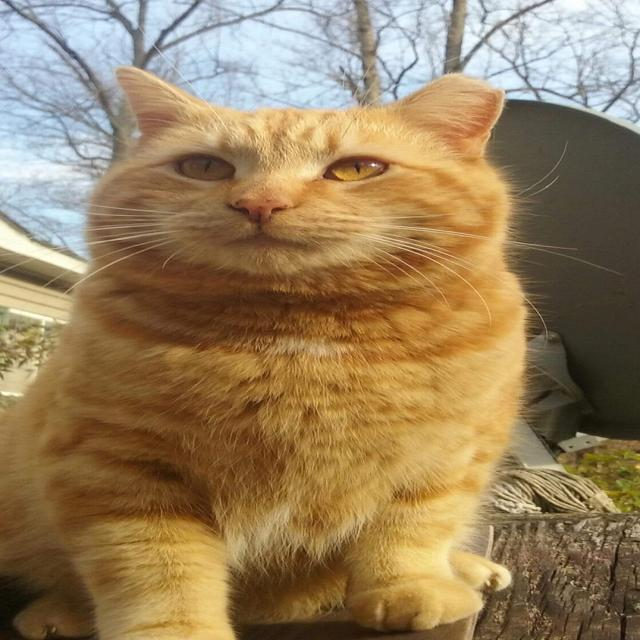sarman: (44, 52, 568, 635)
